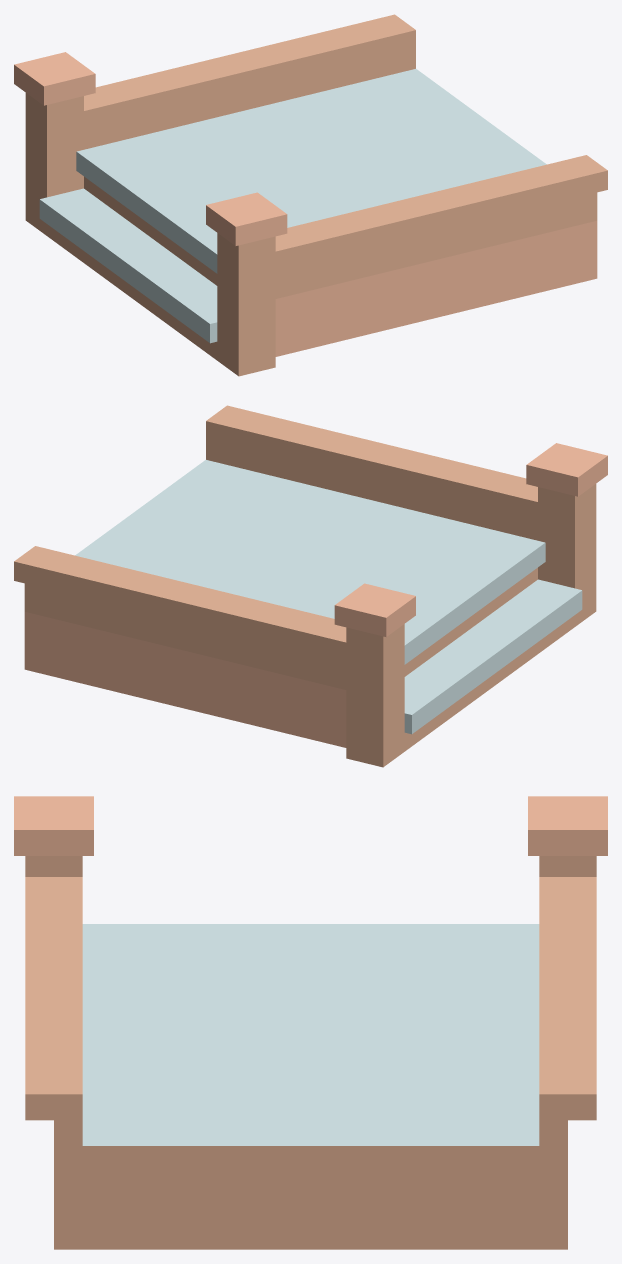
The model's file is bridge_side_wood.glb.
3 views of the same model, one above another, from view 1: azimuth 30°, elevation 25°; view 2: azimuth 150°, elevation 25°; view 3: azimuth 270°, elevation 25° (orthographic). The views are drawn at different scales.
Visible parts, largest first — view 1: bridge_side_wood; view 2: bridge_side_wood; view 3: bridge_side_wood.
Part boxes in pixels (x1=…): bridge_side_wood: x1=14, y1=14, x2=607, y2=376; bridge_side_wood: x1=14, y1=405, x2=607, y2=767; bridge_side_wood: x1=14, y1=796, x2=607, y2=1249.
Bounding box in the file's own units: 1.02 × 0.4 × 1.04.
